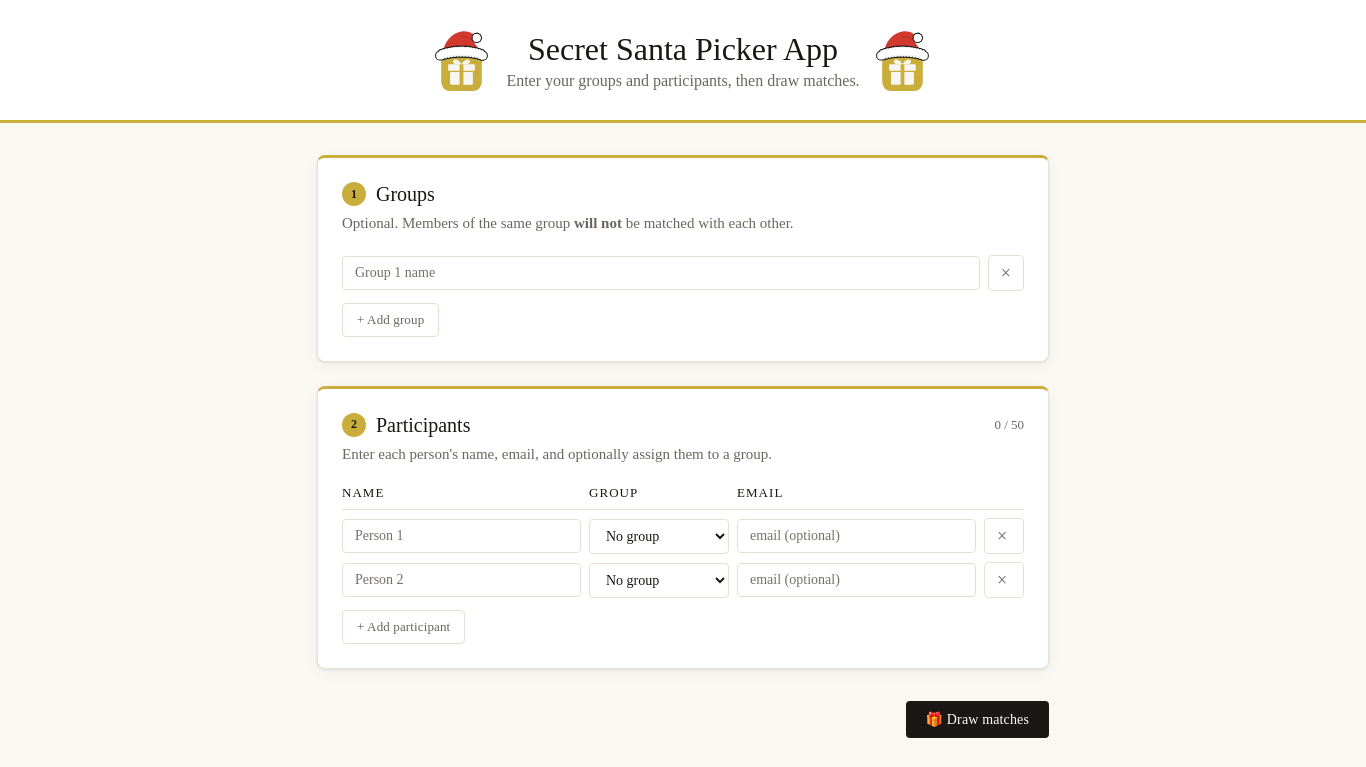
home form › saving the form as it is typed › keeps the draft when the draw fails, so a retry does not mean retyping
Type "Ann" into the field named "Person 1 name" at [462, 536], box [342, 519, 581, 553]
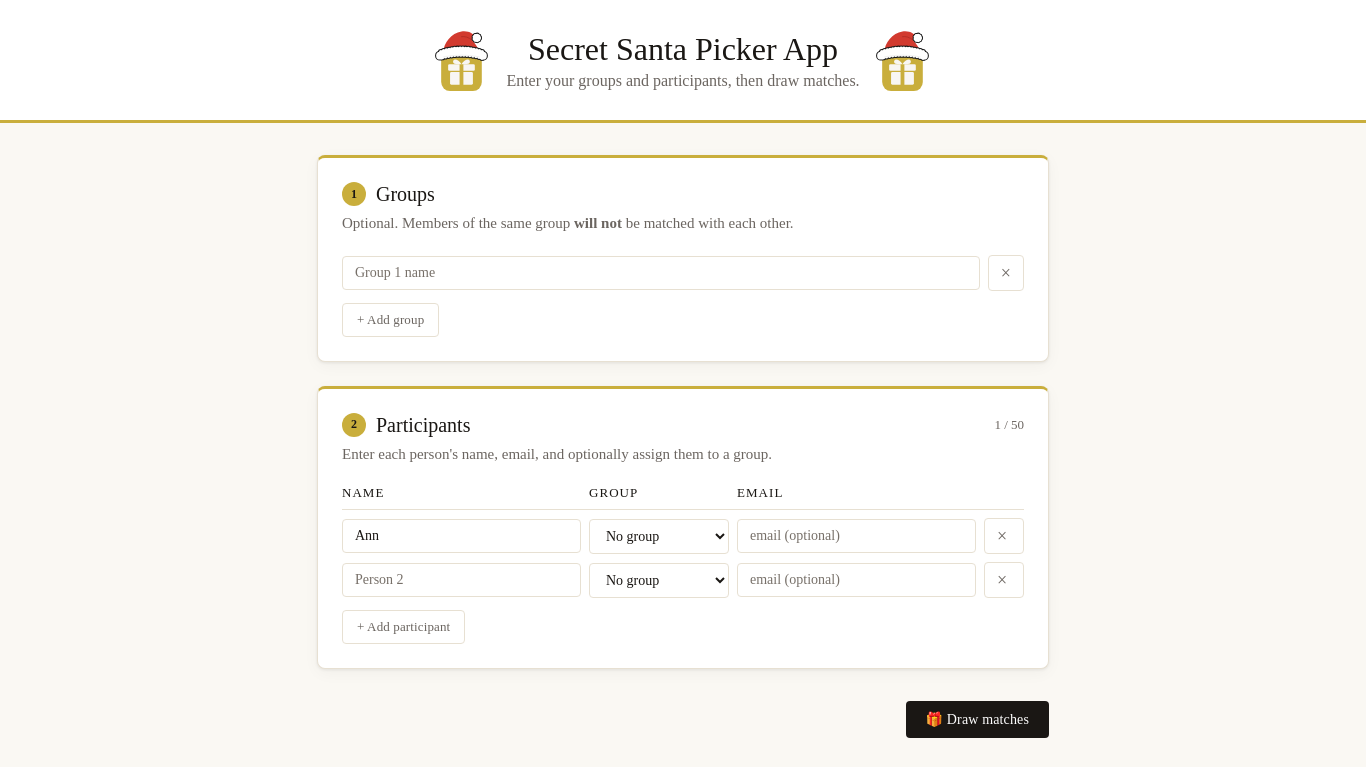
Type "Bob" into the field named "Person 2 name" at [462, 580], box [342, 563, 581, 597]
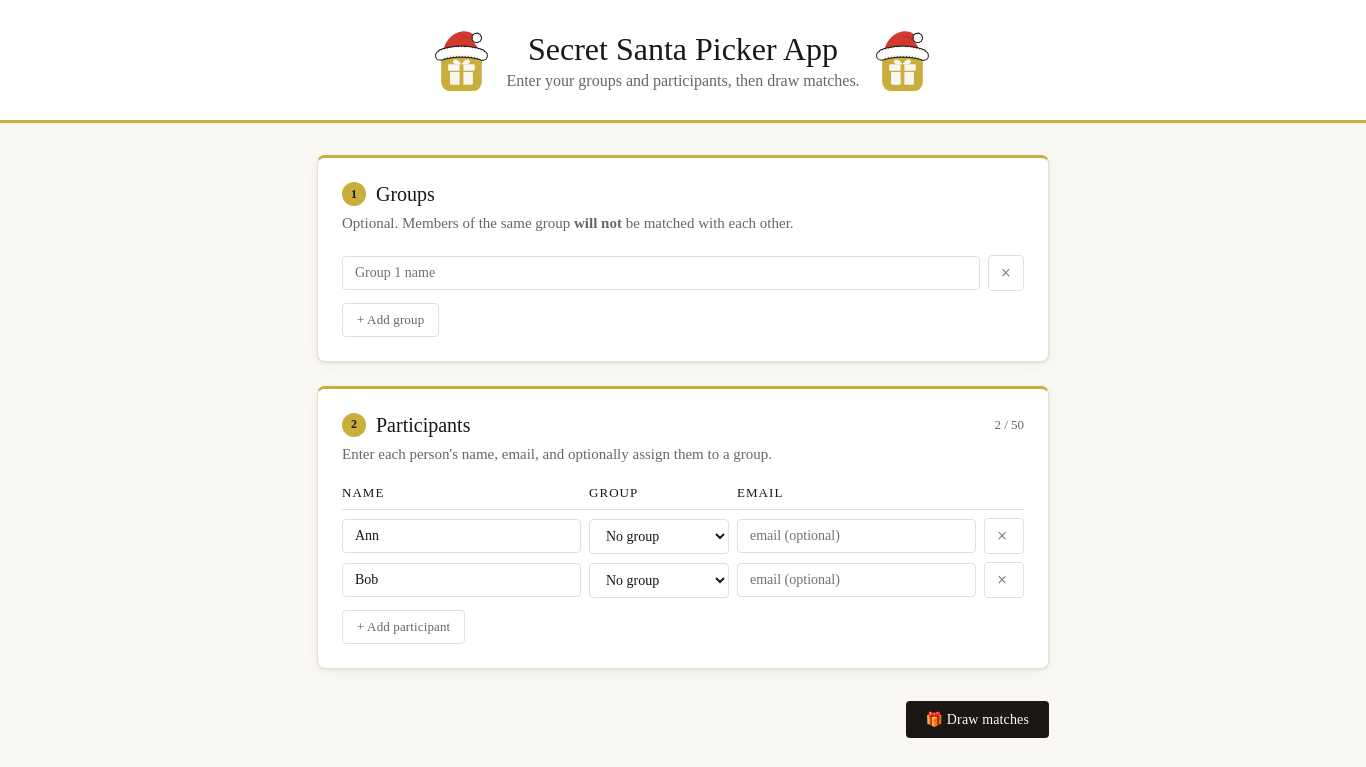
Click the button "🎁 Draw matches" at [977, 720], box [906, 701, 1049, 738]
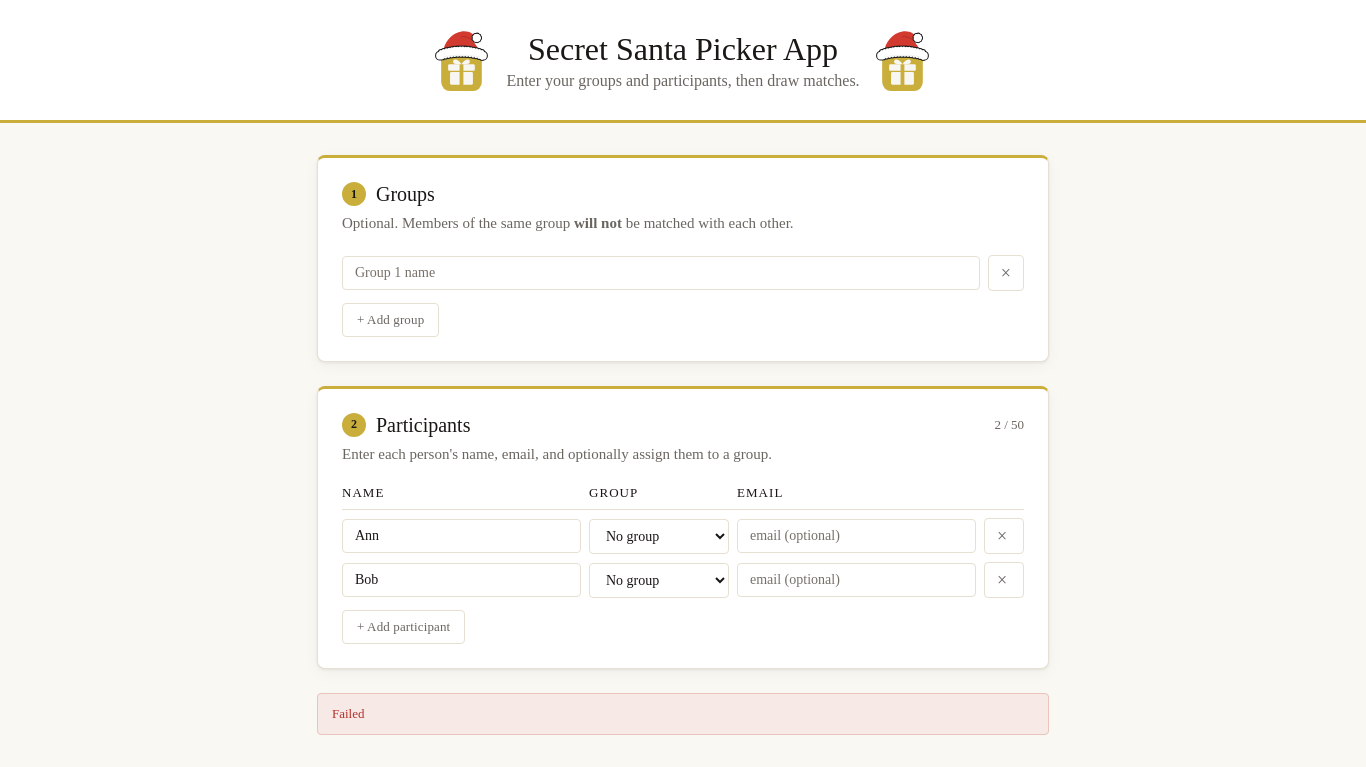
Check: the text "Failed" is shown, box [317, 693, 1049, 734]
